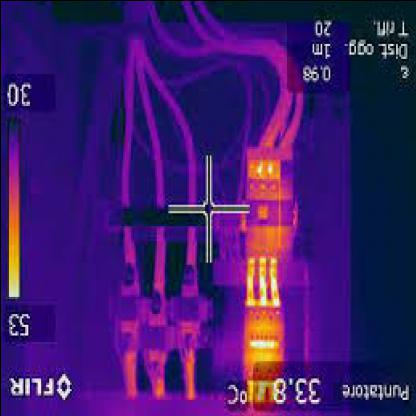Defects: (267, 251, 281, 307), (243, 258, 257, 302), (257, 250, 268, 304), (246, 334, 279, 348), (245, 161, 272, 174)
